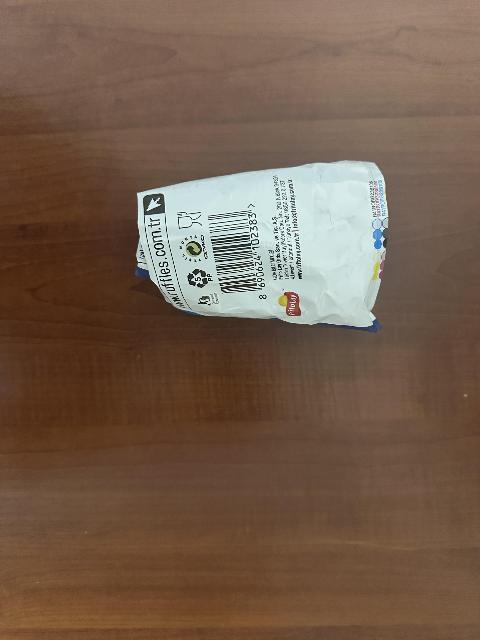Plastik: (140, 160, 387, 329)
